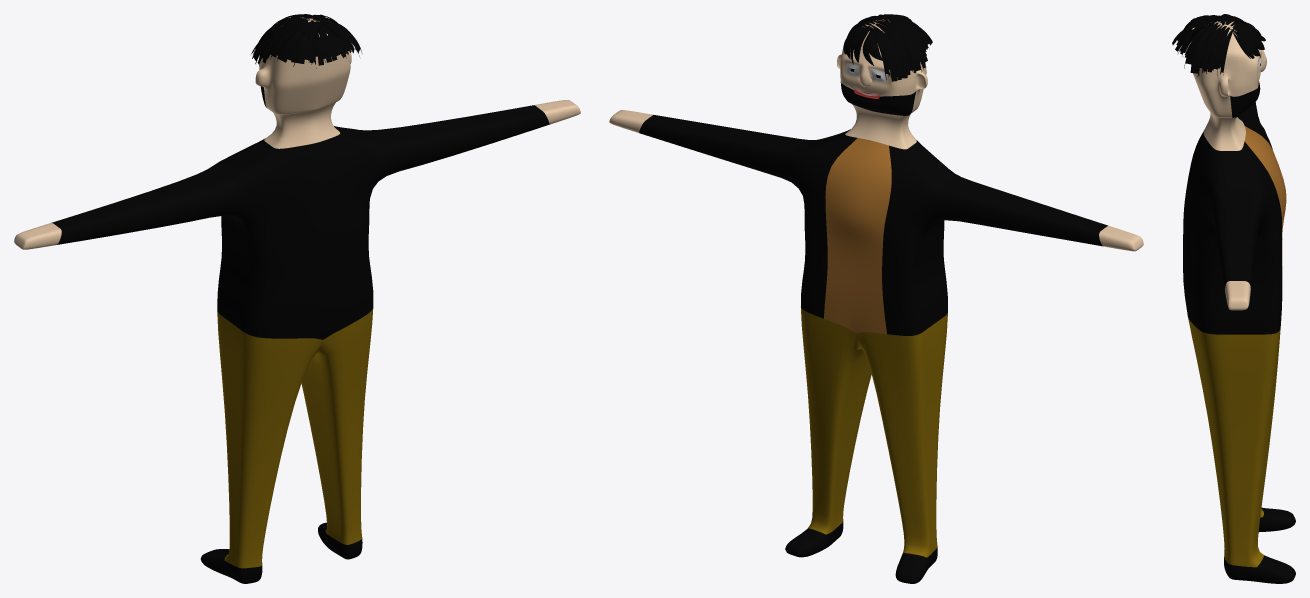
The model's file is Torvald_Kleidung_T_Form.fbx.
3 renders of one model, left to right at view 1: azimuth 30°, elevation 25°; view 2: azimuth 150°, elevation 25°; view 3: azimuth 270°, elevation 25°, orthographic. The views are drawn at different scales.
Parts seen in each view (by area): view 1: Cube, NurbsPath.003; view 2: Cube, NurbsPath.003; view 3: Cube, NurbsPath.003.
Boxes of the visible parts, x1,y1,x2,y2 form: Cube: [14, 17, 580, 583]; NurbsPath.003: [251, 14, 362, 68]; Cube: [609, 19, 1143, 583]; NurbsPath.003: [843, 14, 932, 81]; Cube: [1183, 21, 1295, 583]; NurbsPath.003: [1172, 14, 1265, 77].
Bounding box in the file's own units: 169 × 161 × 33.81.
